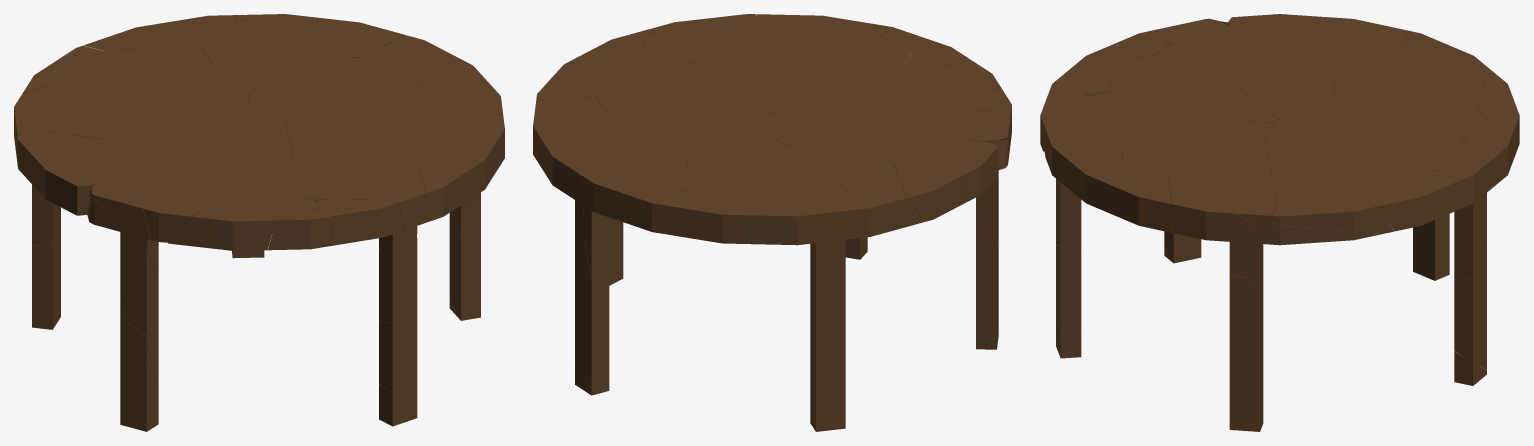
Rendered from table2-pieces.fbx.
3 views of the same model, side by side, from view 1: azimuth 30°, elevation 25°; view 2: azimuth 150°, elevation 25°; view 3: azimuth 270°, elevation 25° (orthographic). The views are drawn at different scales.
Visible parts, largest first — view 1: table2_cell.006, table2_cell.018, table2_cell.046, table2_cell.077, table2_cell.060, table2_cell.026, table2_cell.033, table2_cell.034, table2_cell.043, table2_cell.005, table2_cell.012, table2_cell.079 (+39 smaller); view 2: table2_cell.006, table2_cell.018, table2_cell.046, table2_cell.077, table2_cell.060, table2_cell.026, table2_cell.020, table2_cell.025, table2_cell.062, table2_cell.012, table2_cell.043, table2_cell.055 (+41 smaller); view 3: table2_cell.006, table2_cell.018, table2_cell.046, table2_cell.077, table2_cell.060, table2_cell.014, table2_cell.026, table2_cell.053, table2_cell.063, table2_cell.070, table2_cell.012, table2_cell.043 (+38 smaller).
Boxes of the visible parts, left/top/right/bottom form: table2_cell.006: left=86, top=105, right=269, bottom=179; table2_cell.018: left=184, top=115, right=296, bottom=233; table2_cell.046: left=86, top=48, right=248, bottom=107; table2_cell.077: left=247, top=57, right=393, bottom=116; table2_cell.060: left=200, top=22, right=316, bottom=92; table2_cell.026: left=278, top=109, right=442, bottom=159; table2_cell.033: left=120, top=317, right=158, bottom=429; table2_cell.034: left=200, top=200, right=277, bottom=250; table2_cell.043: left=18, top=106, right=167, bottom=139; table2_cell.005: left=362, top=154, right=427, bottom=237; table2_cell.012: left=47, top=77, right=189, bottom=112; table2_cell.079: left=314, top=199, right=404, bottom=245; table2_cell.006: left=754, top=113, right=969, bottom=161; table2_cell.018: left=761, top=66, right=960, bottom=113; table2_cell.046: left=686, top=125, right=785, bottom=205; table2_cell.077: left=596, top=81, right=761, bottom=130; table2_cell.060: left=579, top=123, right=727, bottom=171; table2_cell.026: left=708, top=35, right=787, bottom=109; table2_cell.020: left=575, top=275, right=609, bottom=390; table2_cell.025: left=810, top=195, right=882, bottom=284; table2_cell.062: left=810, top=336, right=845, bottom=431; table2_cell.012: left=770, top=145, right=850, bottom=258; table2_cell.043: left=806, top=150, right=905, bottom=203; table2_cell.055: left=735, top=193, right=813, bottom=245; table2_cell.006: left=1202, top=30, right=1335, bottom=120; table2_cell.018: left=1108, top=56, right=1279, bottom=122; table2_cell.046: left=1310, top=77, right=1487, bottom=128; table2_cell.077: left=1265, top=117, right=1368, bottom=188; table2_cell.060: left=1335, top=123, right=1475, bottom=170; table2_cell.014: left=1168, top=187, right=1265, bottom=278; table2_cell.026: left=1121, top=122, right=1274, bottom=172; table2_cell.053: left=1229, top=327, right=1263, bottom=430; table2_cell.063: left=1362, top=164, right=1460, bottom=219; table2_cell.070: left=1269, top=188, right=1369, bottom=232; table2_cell.012: left=1334, top=47, right=1451, bottom=95; table2_cell.043: left=1314, top=27, right=1407, bottom=88.
Size of the model in its own units: 3.94 by 2.01 by 3.94.
